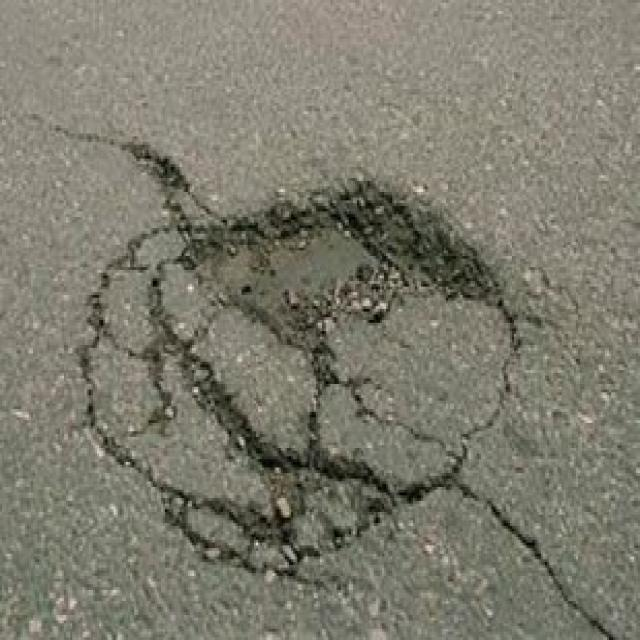Buraco: (172, 174, 516, 392)
